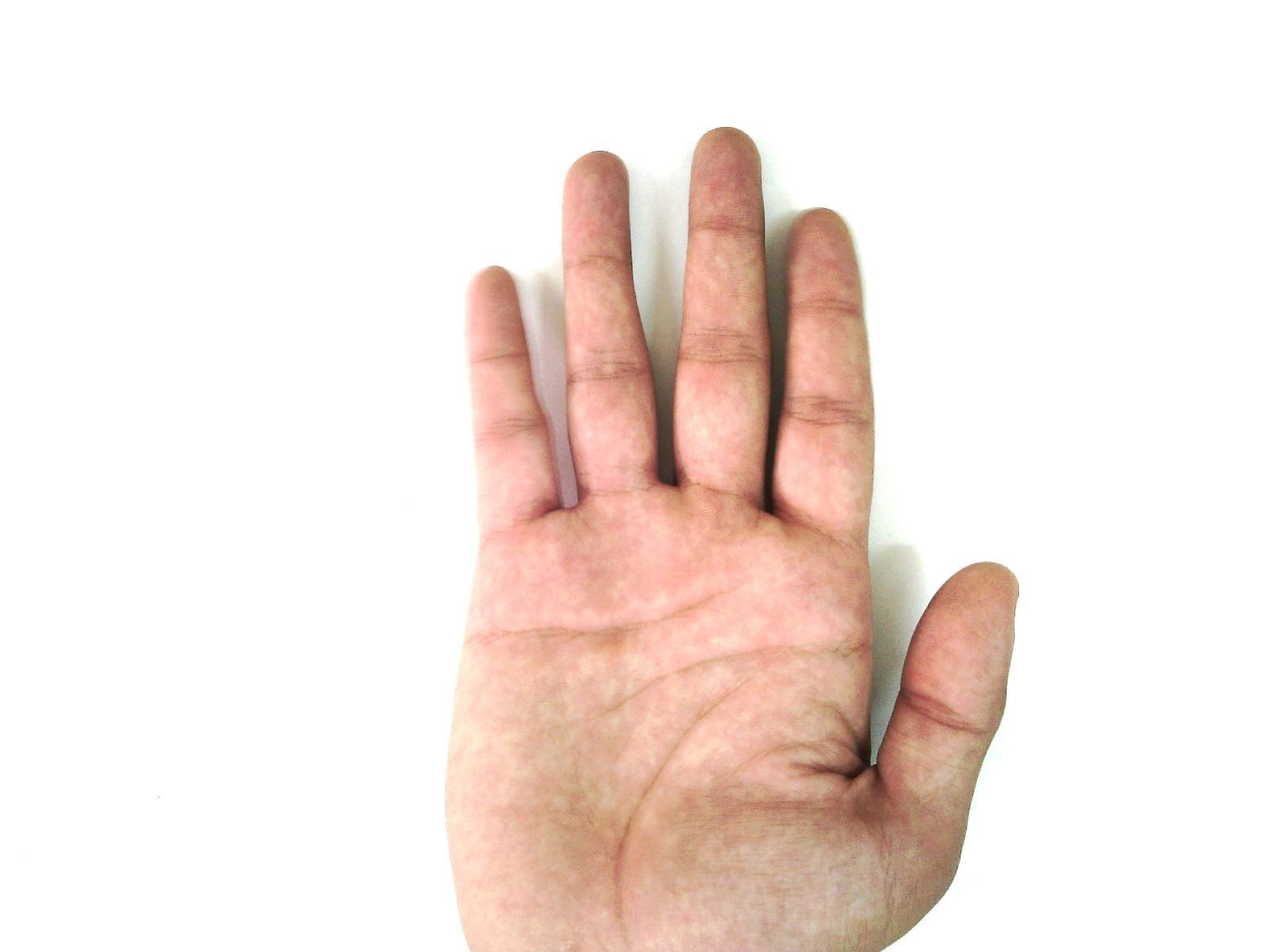open_palm: (441, 125, 1022, 952)
